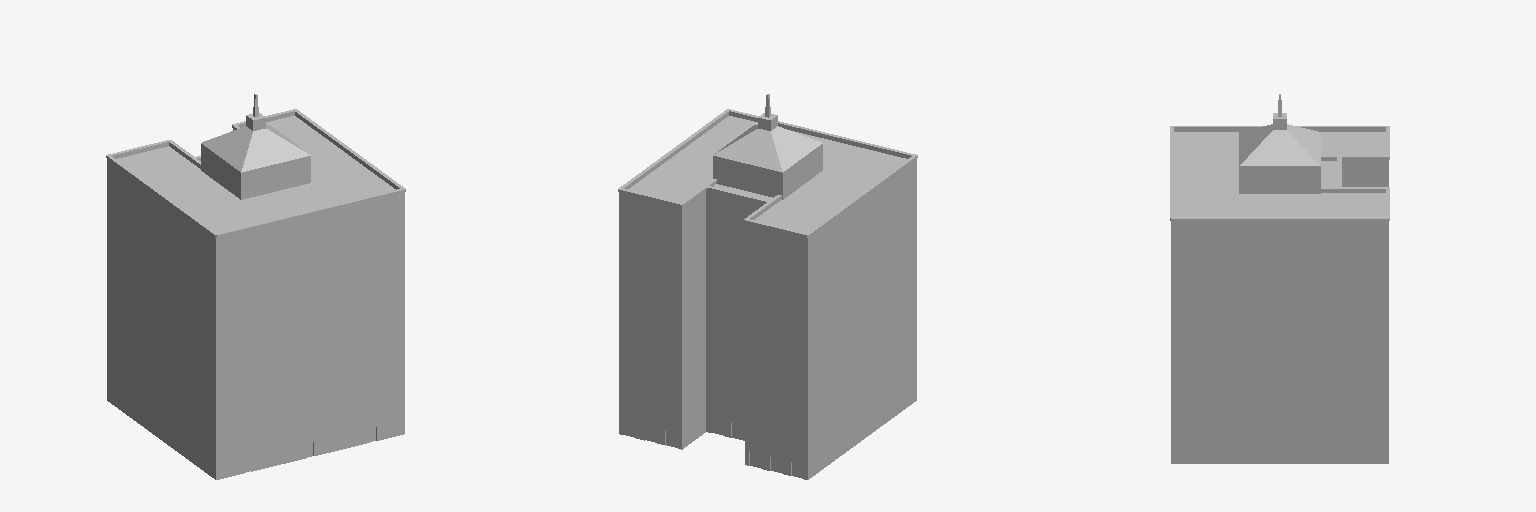
Rendered from skyscraper_e_bigreshape.obj.
The picture shows the model from 3 angles: view 1: azimuth 30°, elevation 25°; view 2: azimuth 150°, elevation 25°; view 3: azimuth 270°, elevation 25°; orthographic projection.
Visible parts, largest first — view 1: skyscraperE.006; view 2: skyscraperE.006; view 3: skyscraperE.006.
Part boxes in pixels (x1,y1,x2,y2): skyscraperE.006: (106, 94, 405, 479); skyscraperE.006: (618, 94, 917, 479); skyscraperE.006: (1170, 94, 1389, 463).
Bounding box in the file's own units: 7.28 × 11.8 × 7.28.